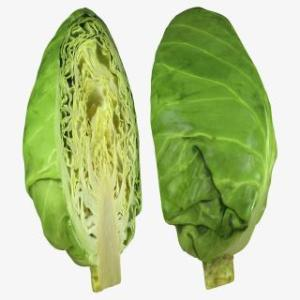cabbage: (150, 6, 278, 290), (22, 5, 142, 294)
